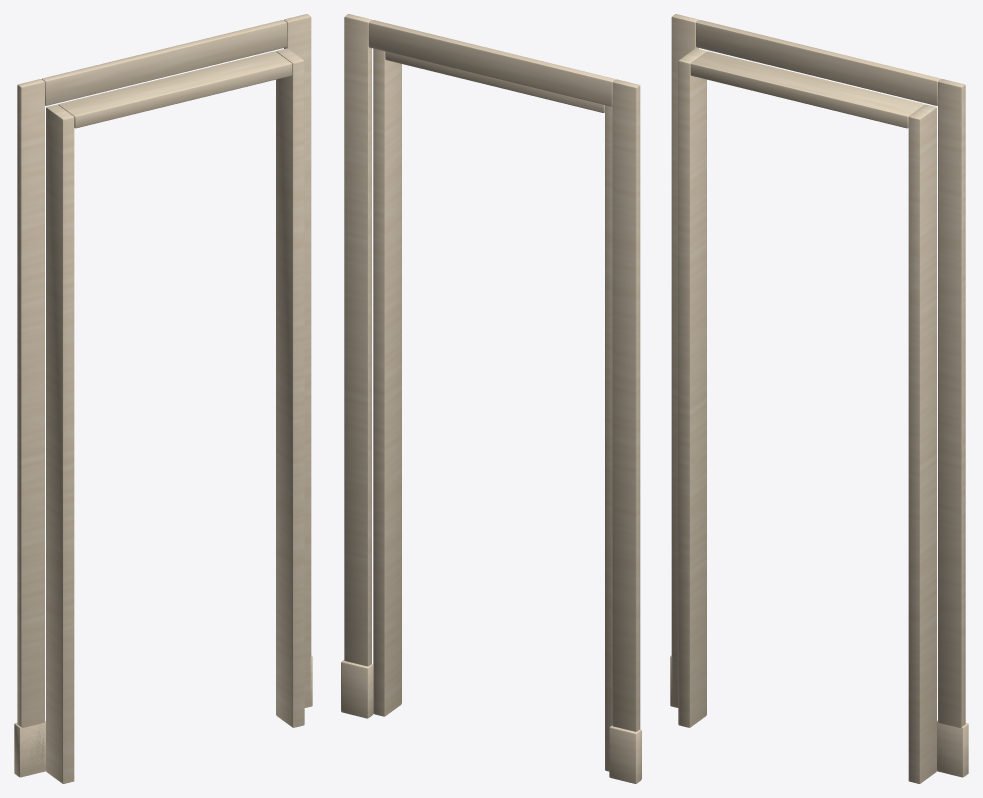
File: SM_DoorFrame_1x3.fbx
3 views of the same model, side by side, from view 1: azimuth 30°, elevation 25°; view 2: azimuth 150°, elevation 25°; view 3: azimuth 330°, elevation 25° (orthographic).
Visible parts, largest first — view 1: SM_DoorFrame_1x3; view 2: SM_DoorFrame_1x3; view 3: SM_DoorFrame_1x3.
Boxes of the visible parts, bbox=[...] form: SM_DoorFrame_1x3: bbox=[14, 14, 312, 783]; SM_DoorFrame_1x3: bbox=[341, 14, 641, 783]; SM_DoorFrame_1x3: bbox=[670, 14, 968, 783].
Bounding box in the file's own units: 0.97 × 2.18 × 0.135.
Materials: 1 (1 with a texture image).
